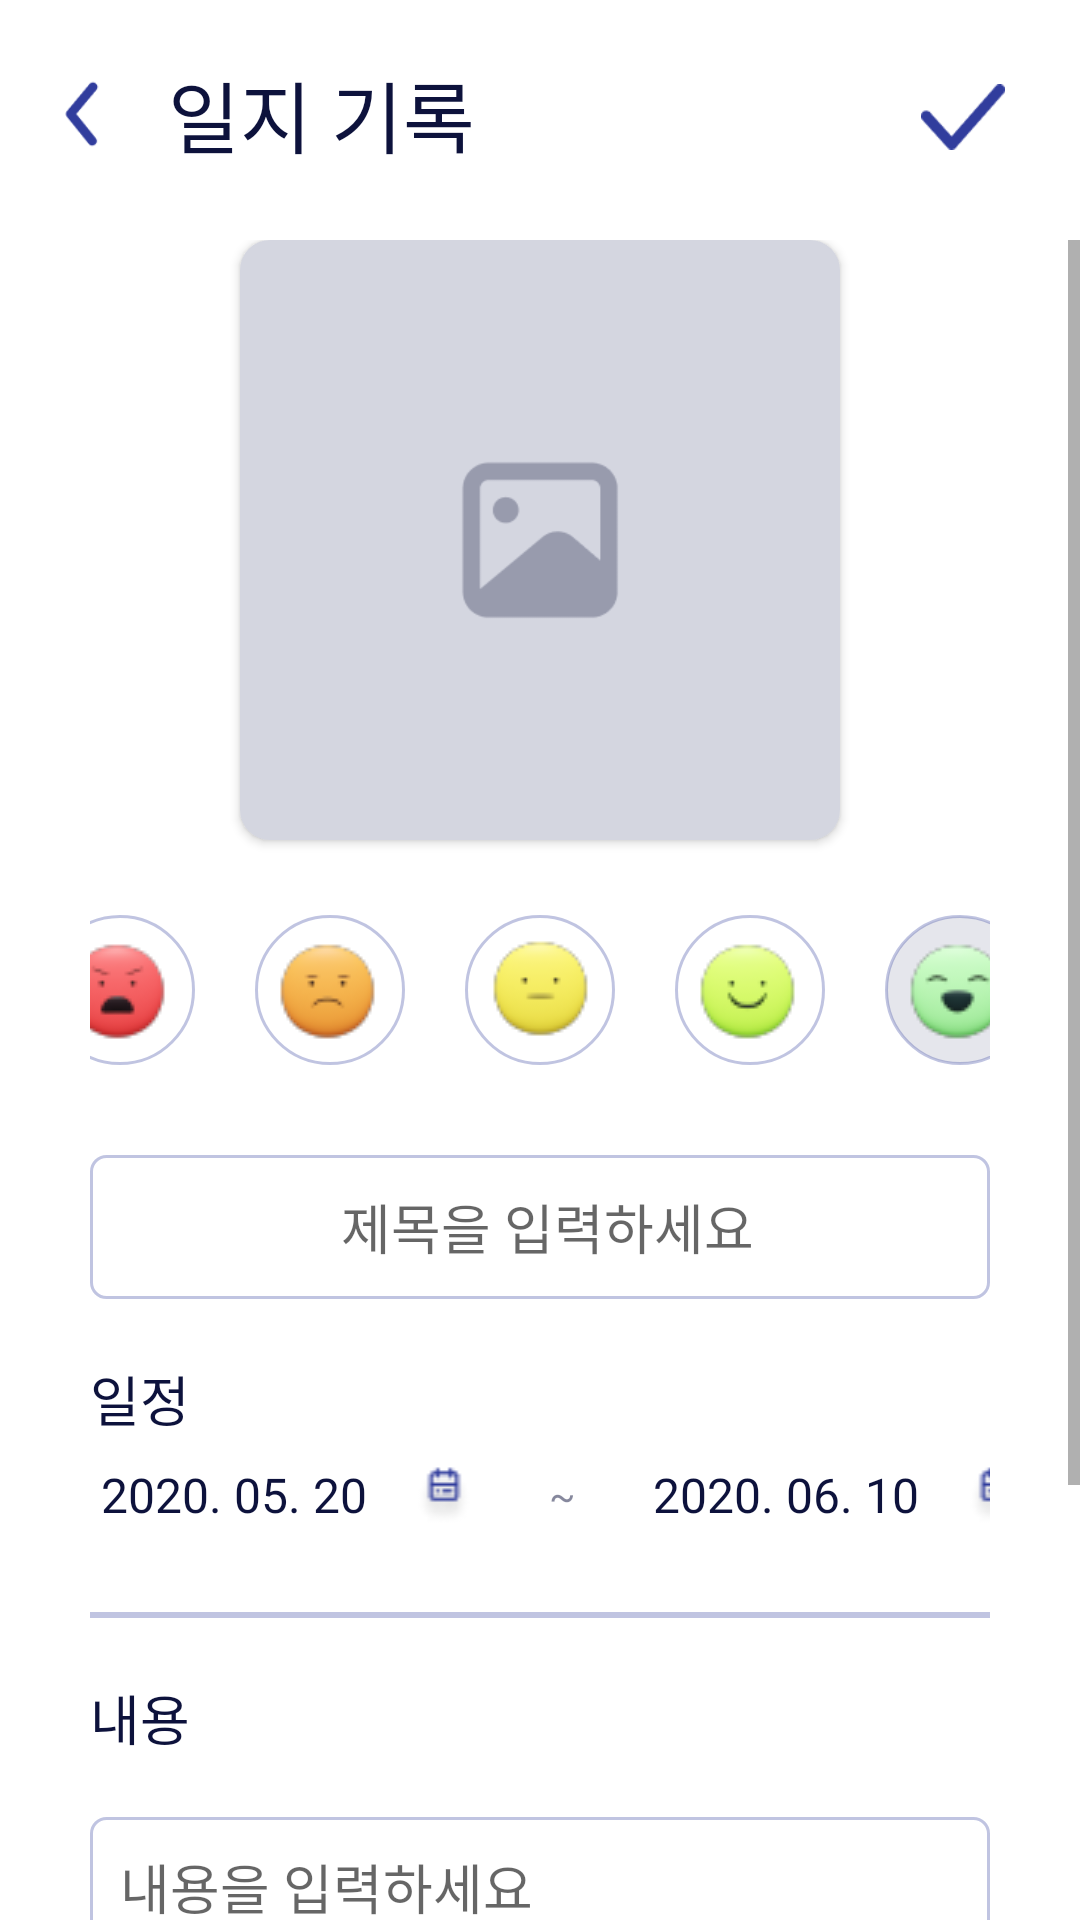

Where icons sit on this 1080px×1920px app screen, as region(x1, y1, x2, y2):
check: region(921, 84, 1005, 150)
left: region(65, 82, 98, 146)
